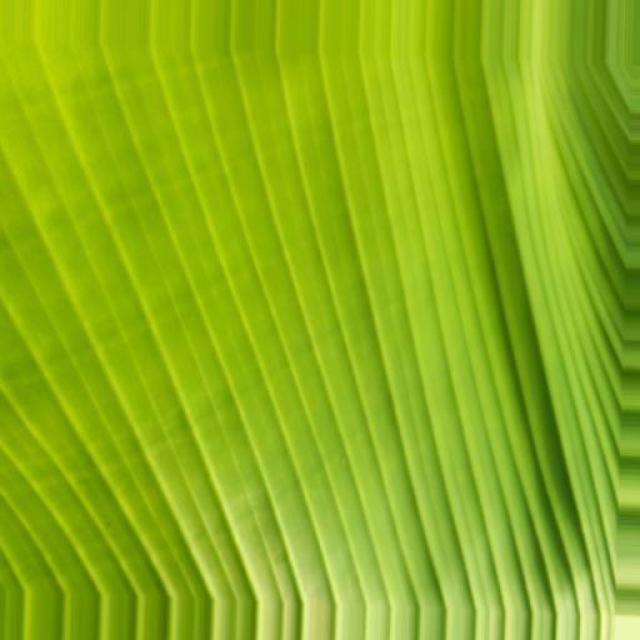Black_leaf_spot: (0, 0, 586, 629)
